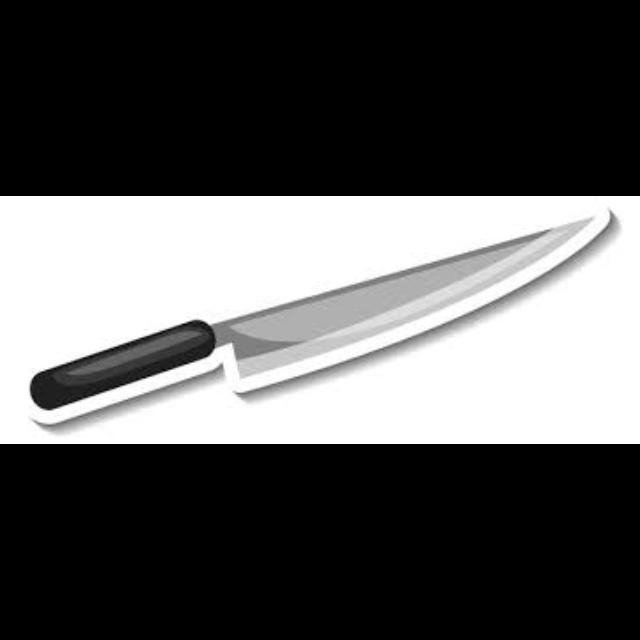Knife: (29, 206, 612, 424)
